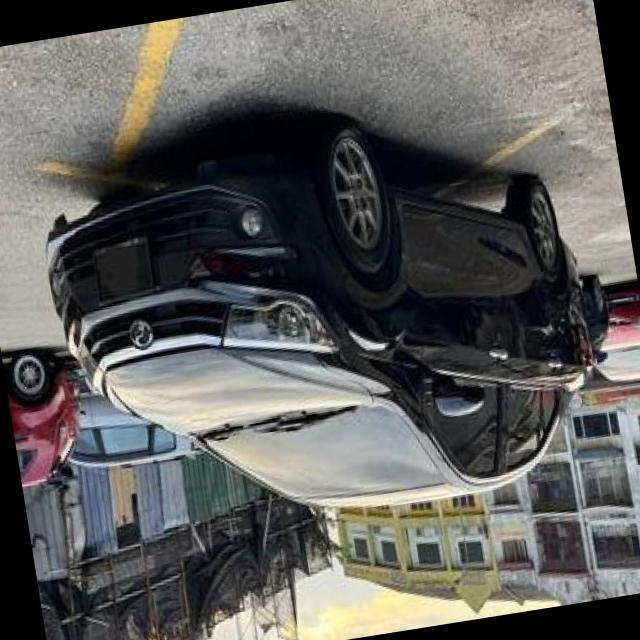PeroduaBezza: (29, 81, 618, 556)
